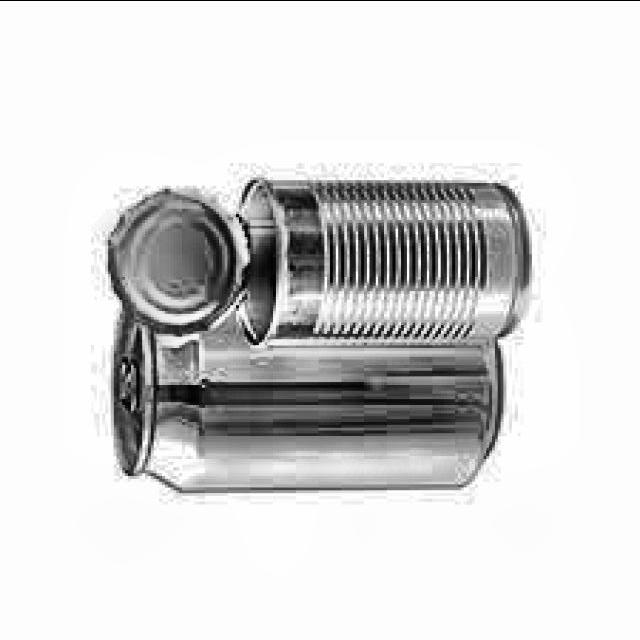Aluminum Can: (106, 294, 512, 494), (99, 176, 540, 349)
